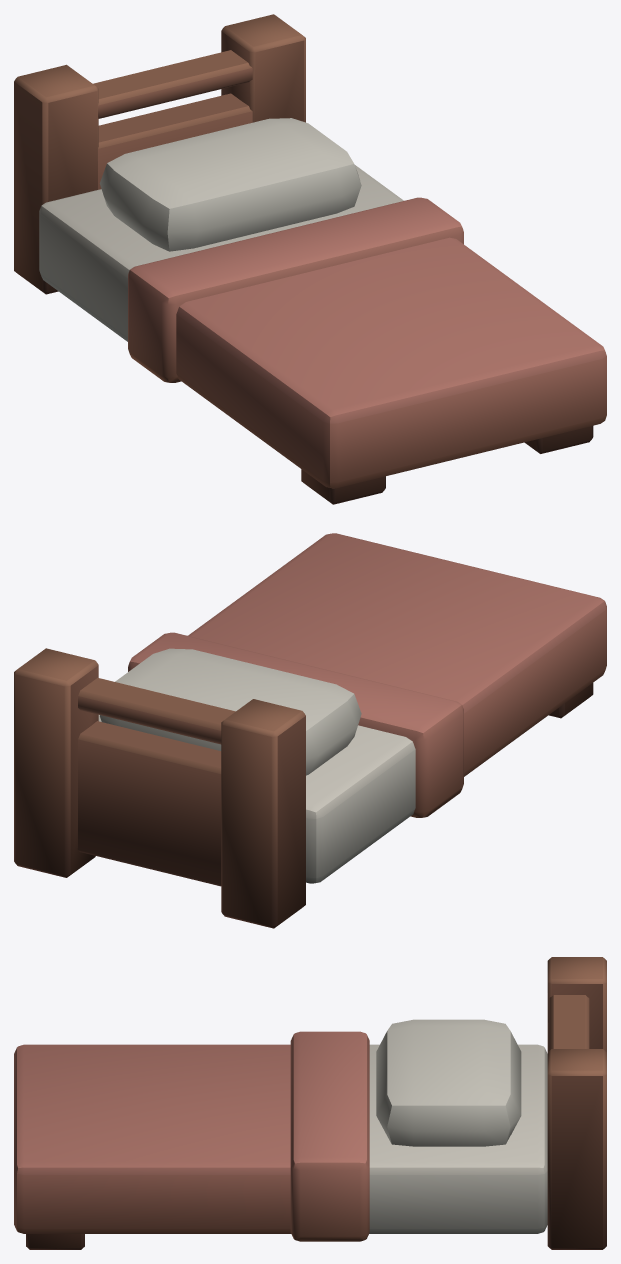
The model's file is bed-single-a.glb.
The picture shows the model from 3 angles, top to bottom: view 1: azimuth 30°, elevation 25°; view 2: azimuth 150°, elevation 25°; view 3: azimuth 270°, elevation 25°; orthographic projection. The views are drawn at different scales.
Visible parts, largest first — view 1: bed-single-a; view 2: bed-single-a; view 3: bed-single-a.
Part boxes in pixels (<box>): bed-single-a: <box>14,14,606,504</box>; bed-single-a: <box>14,533,606,928</box>; bed-single-a: <box>14,957,606,1249</box>.
Size of the model in its own units: 1.44 by 0.8999 by 2.7.
